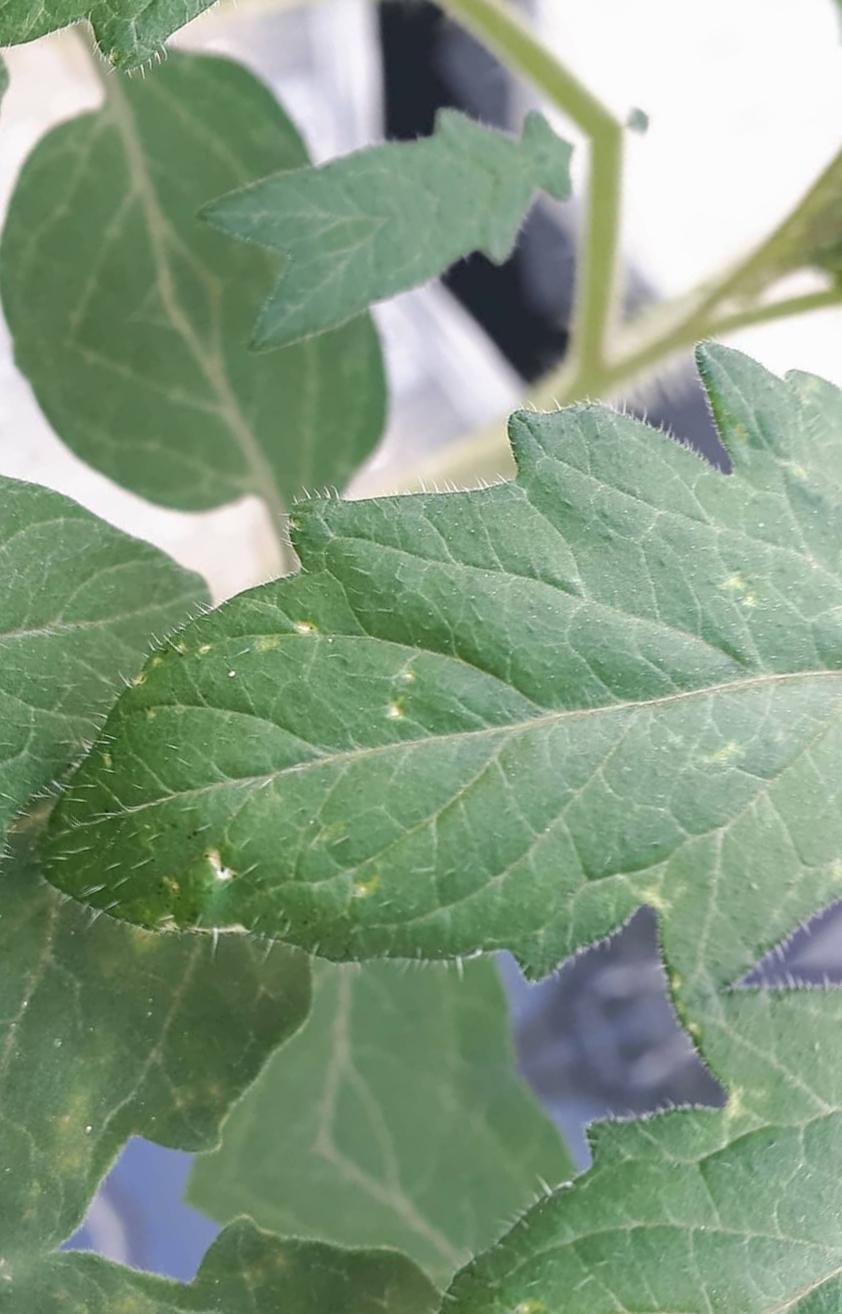Tomato mold leaf: (0, 218, 842, 1203), (0, 314, 357, 1058)
